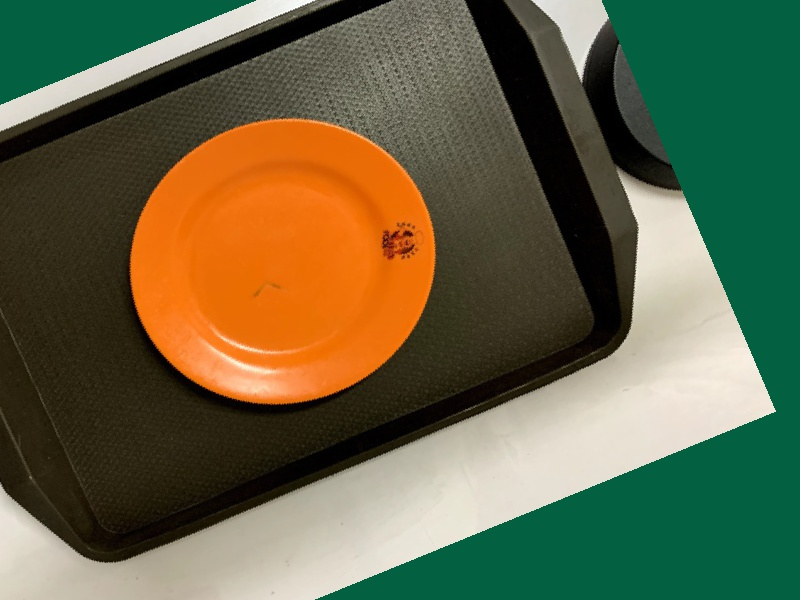dish10: (78, 65, 487, 455)
